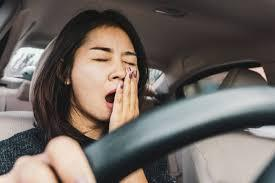Drowsy: (58, 7, 149, 126)
